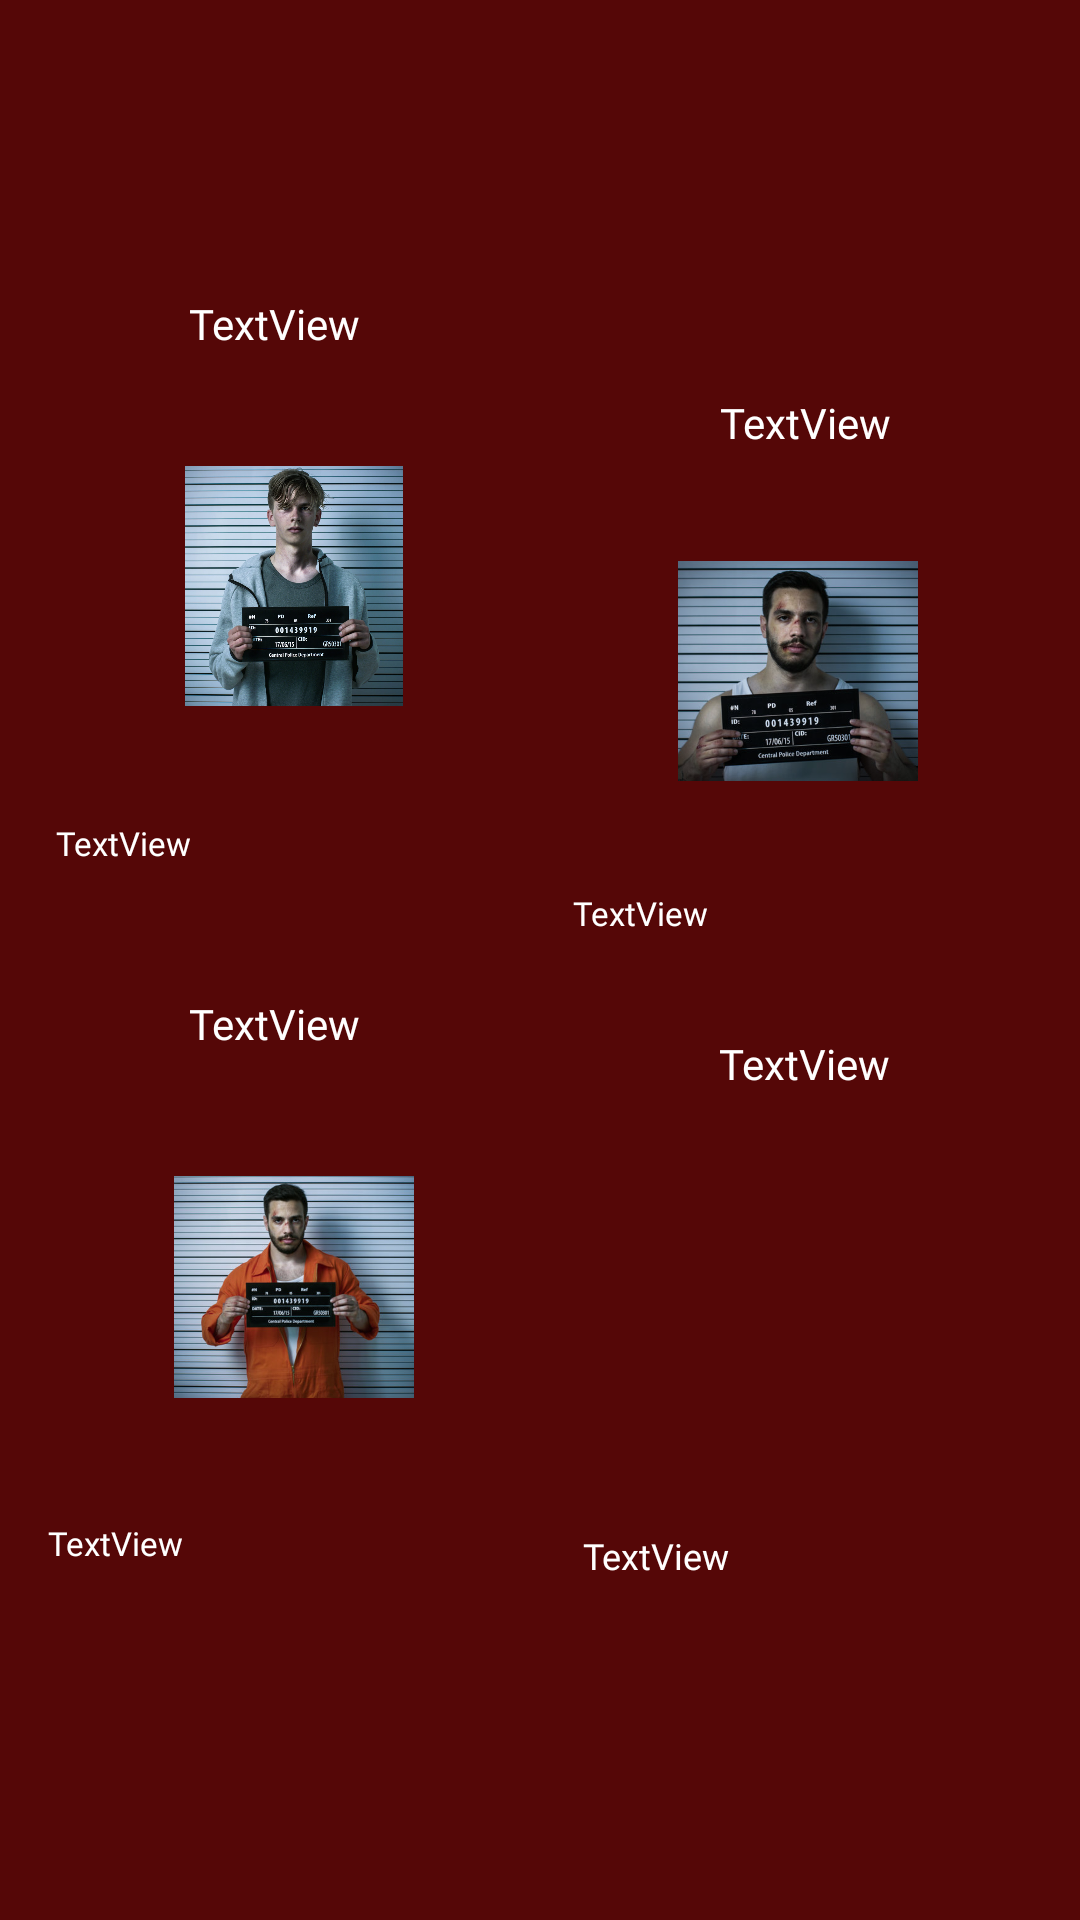

Where icons sit on this 1080x1920 app screen, as bbox=(x1, y1, x2, y2):
gfoyetmugshot: bbox=(678, 561, 918, 781)
idoylemugshot: bbox=(174, 1176, 414, 1398)
sreidmugshotnew: bbox=(185, 466, 403, 706)
